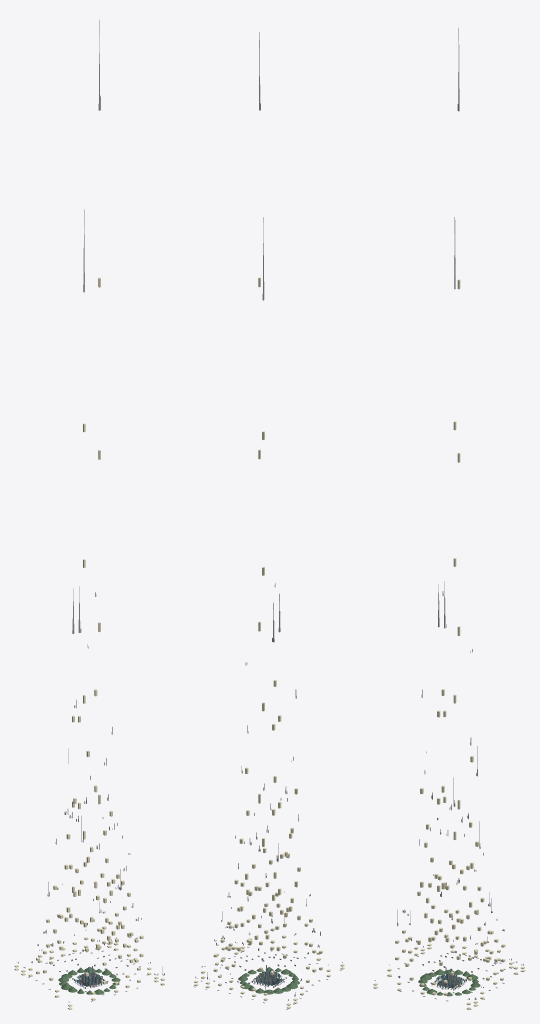
Rendered from city.fbx.
The picture shows the model from 3 angles, left to right: view 1: azimuth 30°, elevation 25°; view 2: azimuth 150°, elevation 25°; view 3: azimuth 330°, elevation 25°; orthographic projection.
Bounding box in the file's own units: 39099 × 377483 × 39725.
